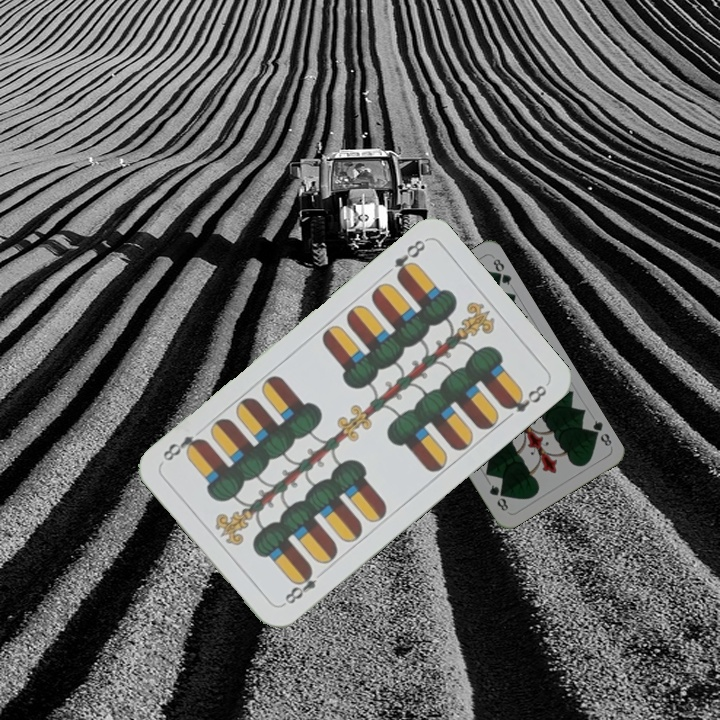E8: (278, 564, 328, 609), (390, 235, 428, 283)
G8: (585, 416, 614, 449)
